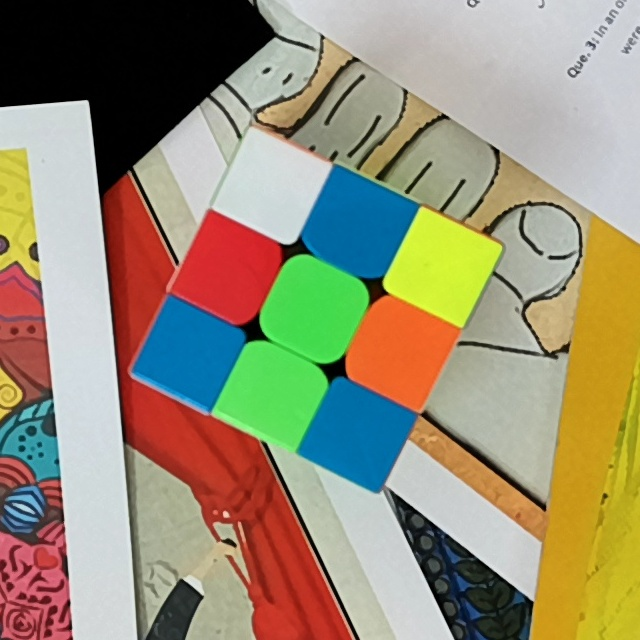tile: (365, 318, 434, 386), (277, 276, 347, 342), (325, 191, 392, 259), (198, 234, 262, 302), (154, 323, 222, 387), (236, 159, 305, 221), (409, 236, 475, 300), (324, 405, 388, 470), (241, 362, 309, 420)
